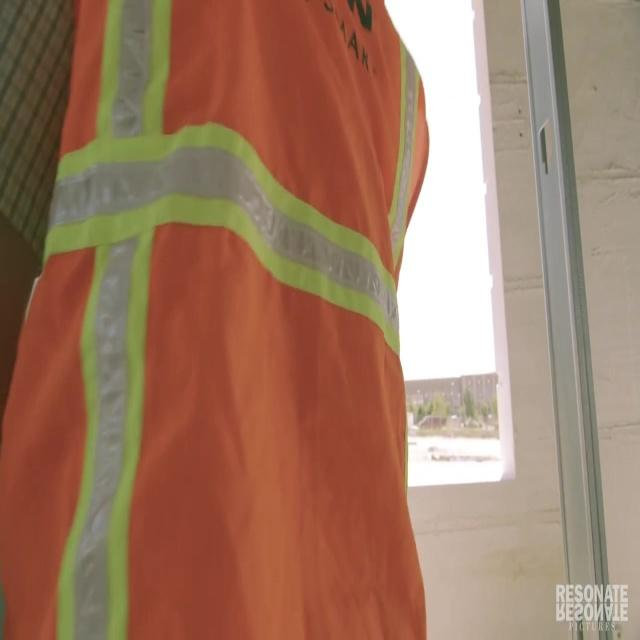vest: (1, 0, 435, 640)
